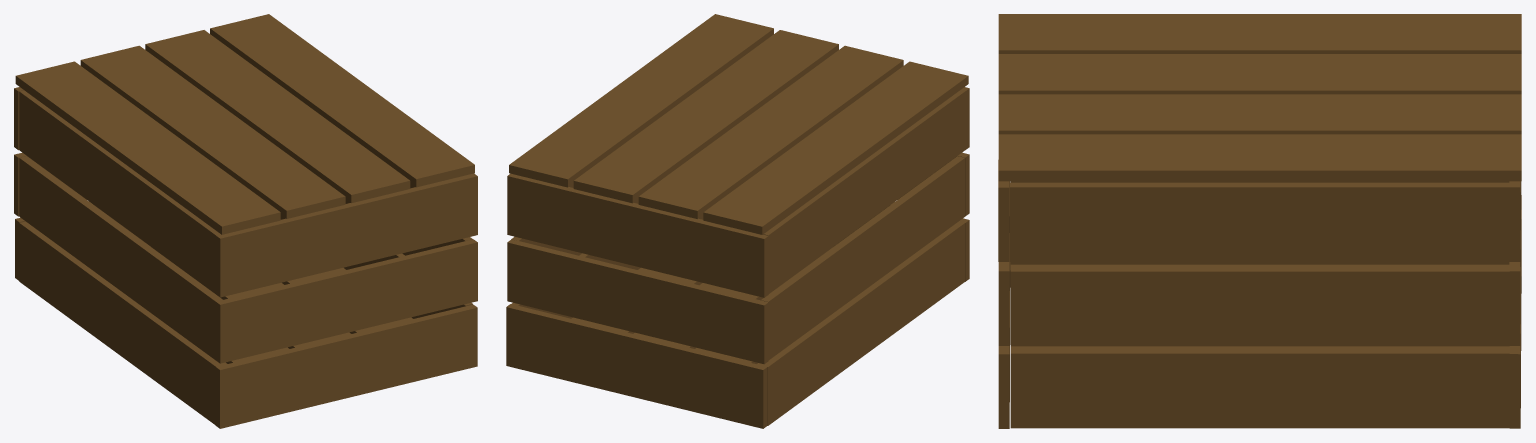
Rendered from chest.fbx.
The picture shows the model from 3 angles, left to right: view 1: azimuth 30°, elevation 25°; view 2: azimuth 150°, elevation 25°; view 3: azimuth 270°, elevation 25°; orthographic projection. The views are drawn at different scales.
Visible parts, largest first — view 1: Cube, Cube.001; view 2: Cube, Cube.001; view 3: Cube, Cube.001.
Part boxes in pixels (left/top/right/bottom): Cube: left=14, top=87, right=477, bottom=428; Cube.001: left=15, top=14, right=474, bottom=234; Cube: left=506, top=87, right=969, bottom=428; Cube.001: left=509, top=14, right=968, bottom=234; Cube: left=998, top=160, right=1521, bottom=428; Cube.001: left=998, top=14, right=1521, bottom=181.
Bounding box in the file's own units: 152 × 113 × 210.
